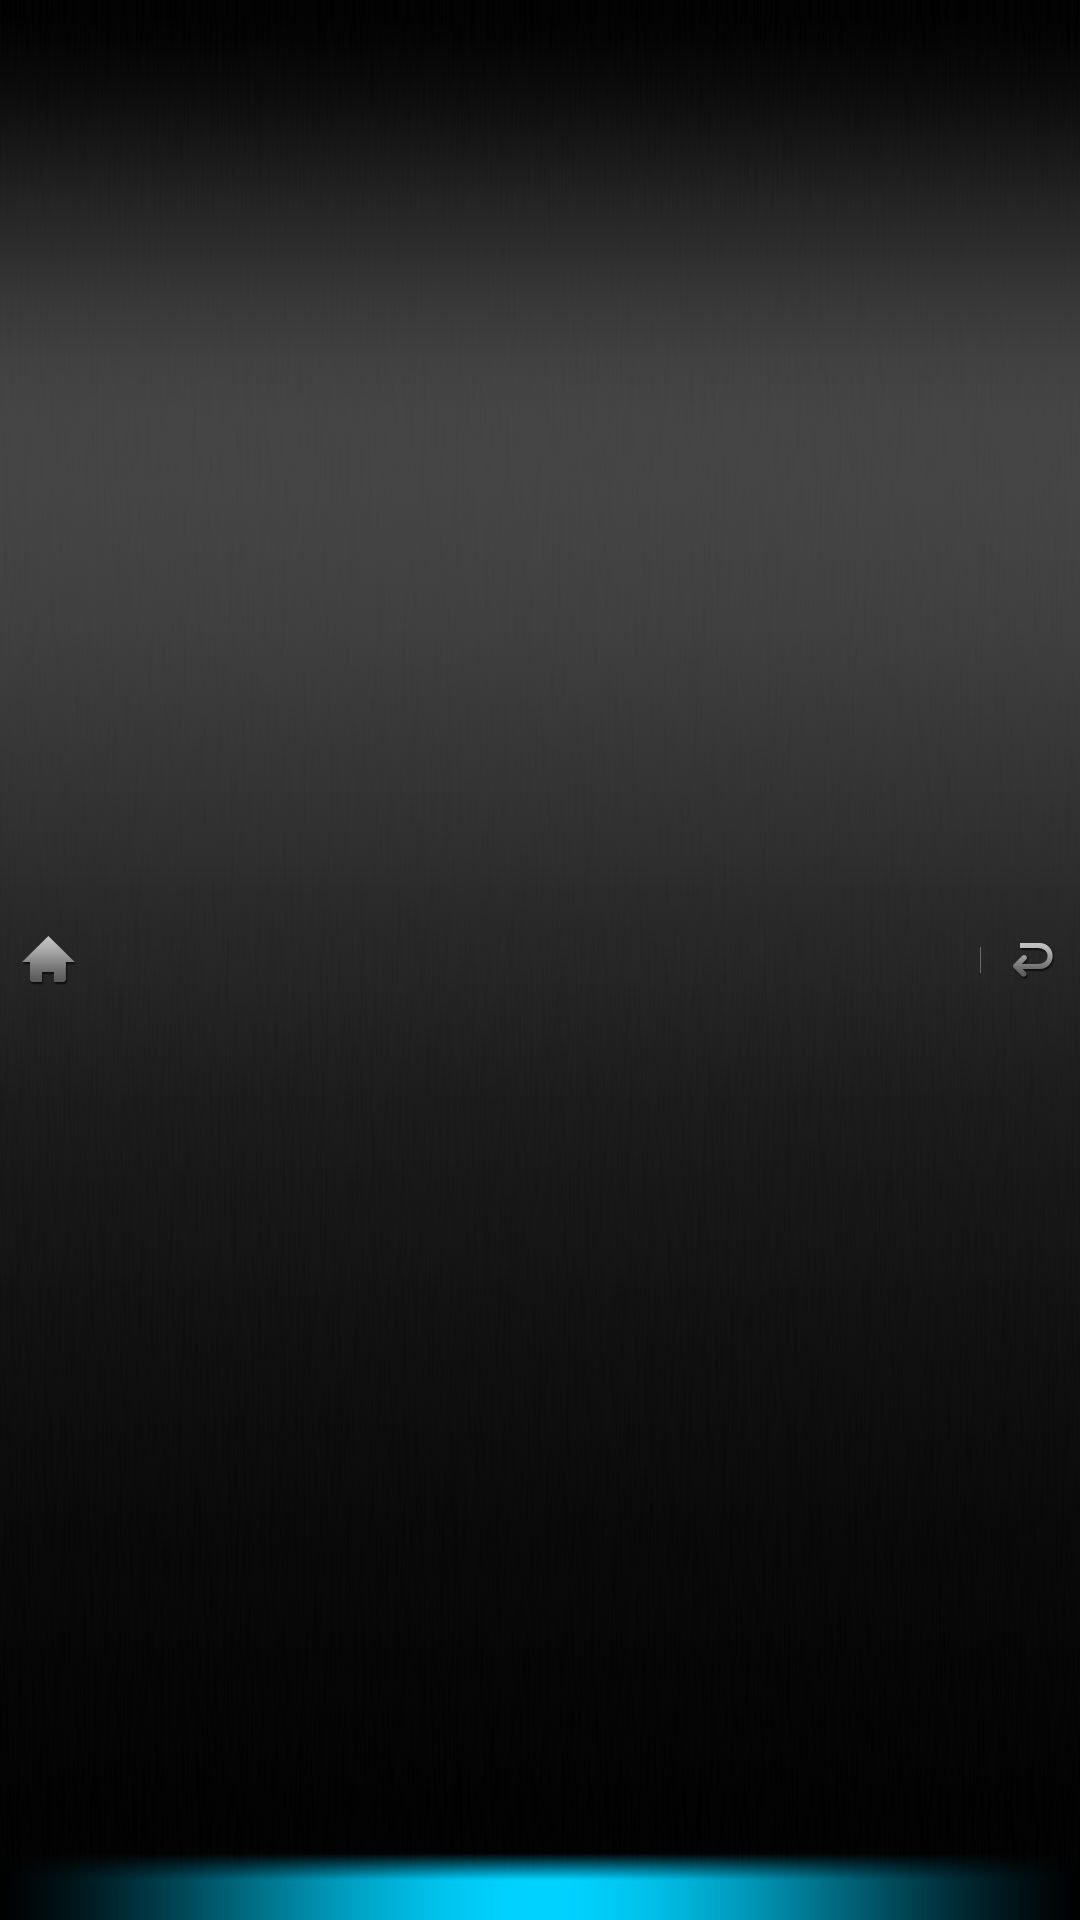

Icon bounding boxes for this 1080*1920 phone screenshot, format (x1,y1,x2,y2):
home: (22,936,75,982)
